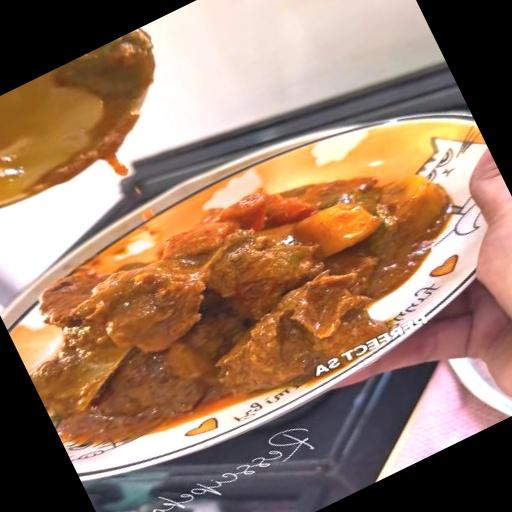pork caldereta: (52, 180, 443, 434)
